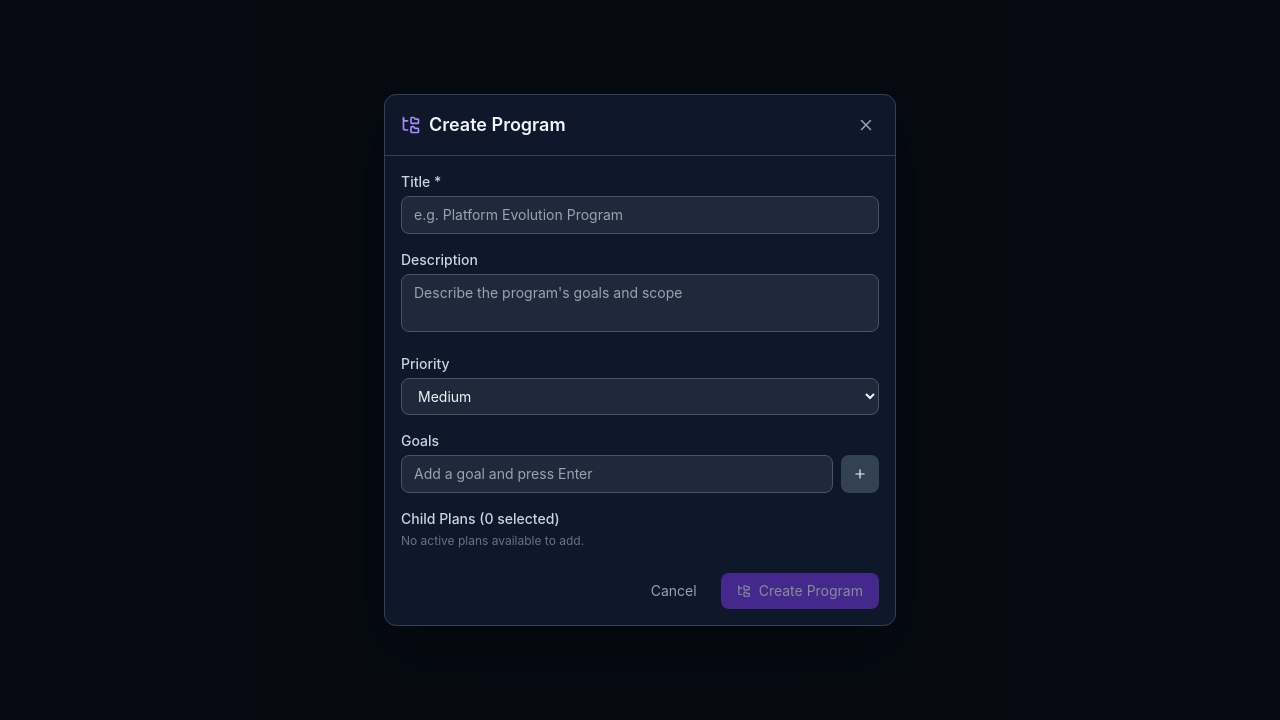
Scenario: ProgramCreateForm › form validation › enables submit button when title is filled
Type "My Program" into the field with placeholder "e.g. Platform Evolution Program" at x=640, y=215, box [401,196,879,234]
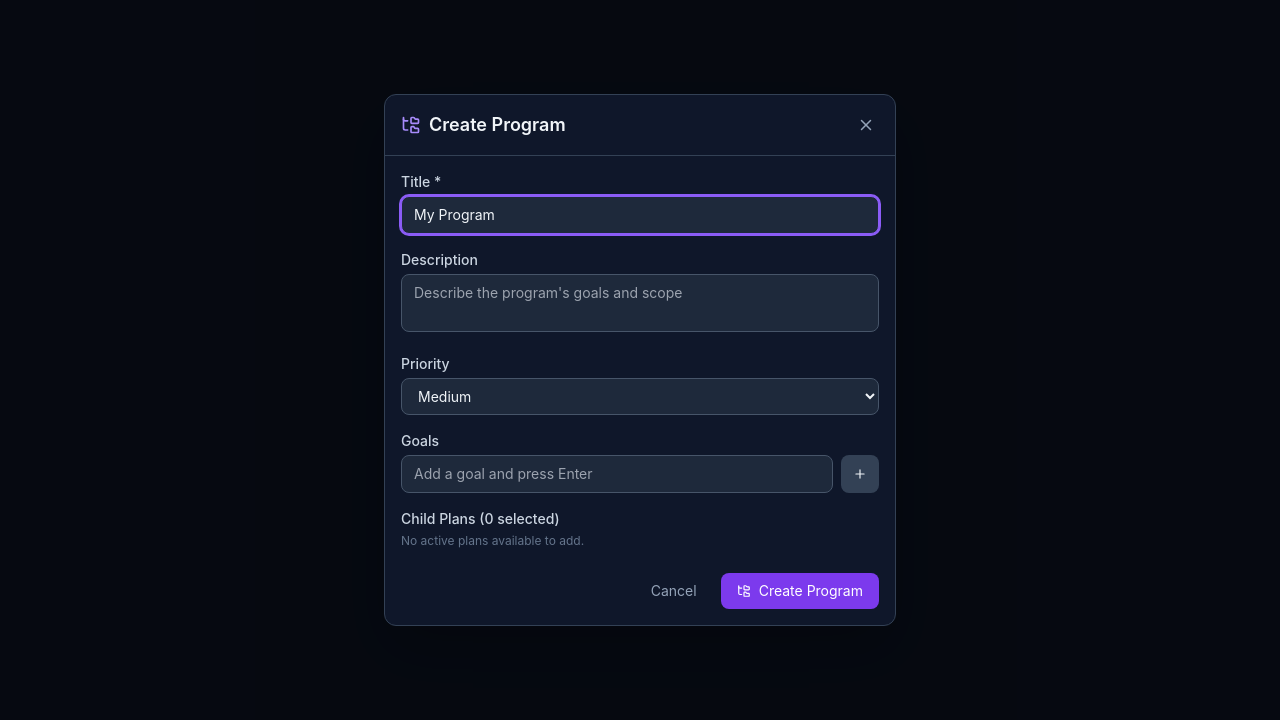
Check: the button "Create Program" is enabled, box [721,573,879,609]
